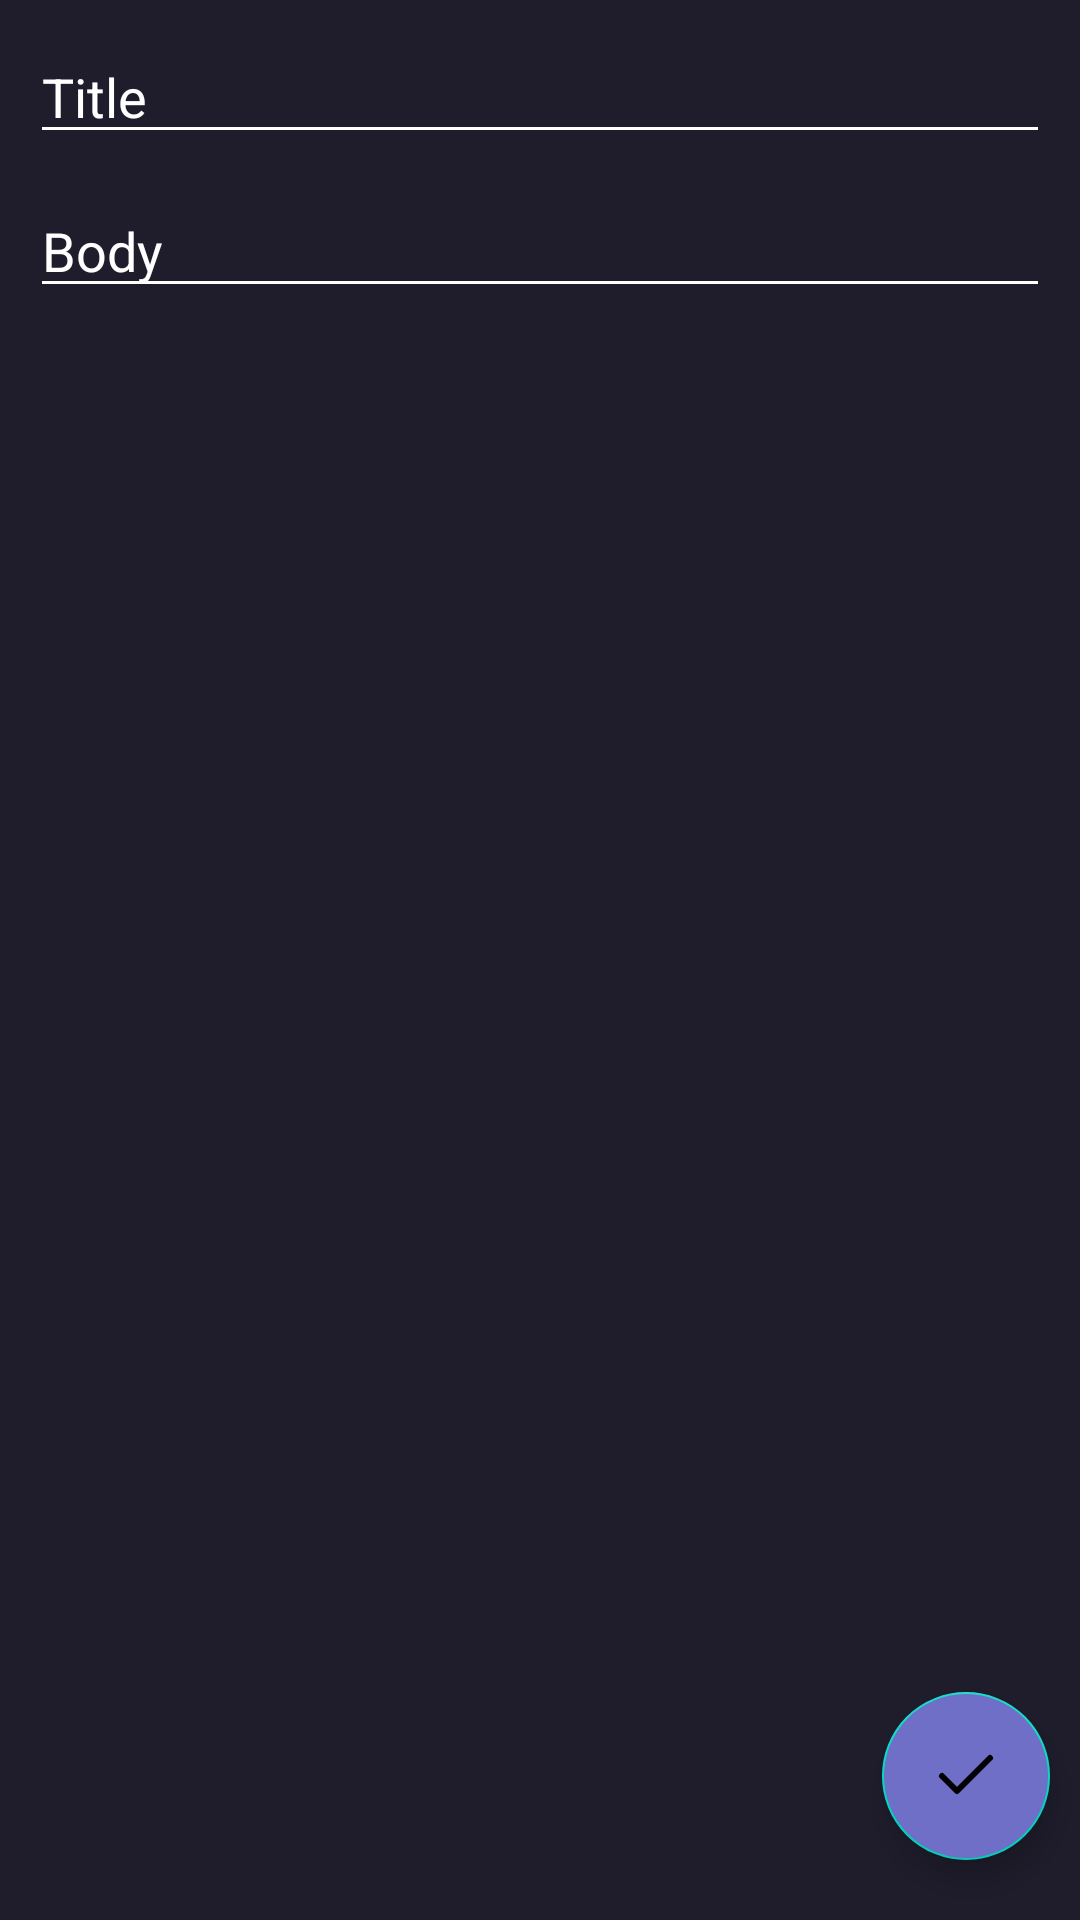

Screen size 1080x1920. Icon name, then its box in pixels as (x1, y1, x2, y2):
check: (882, 1692, 1050, 1860)
